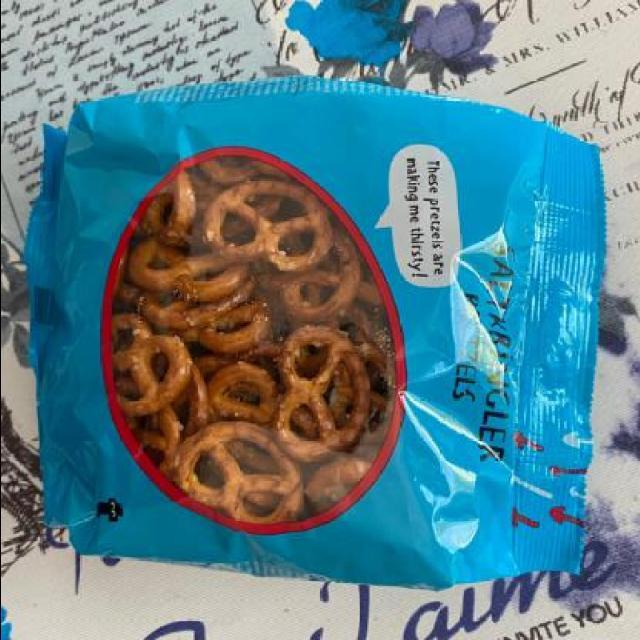Salatini: (38, 83, 610, 594)
